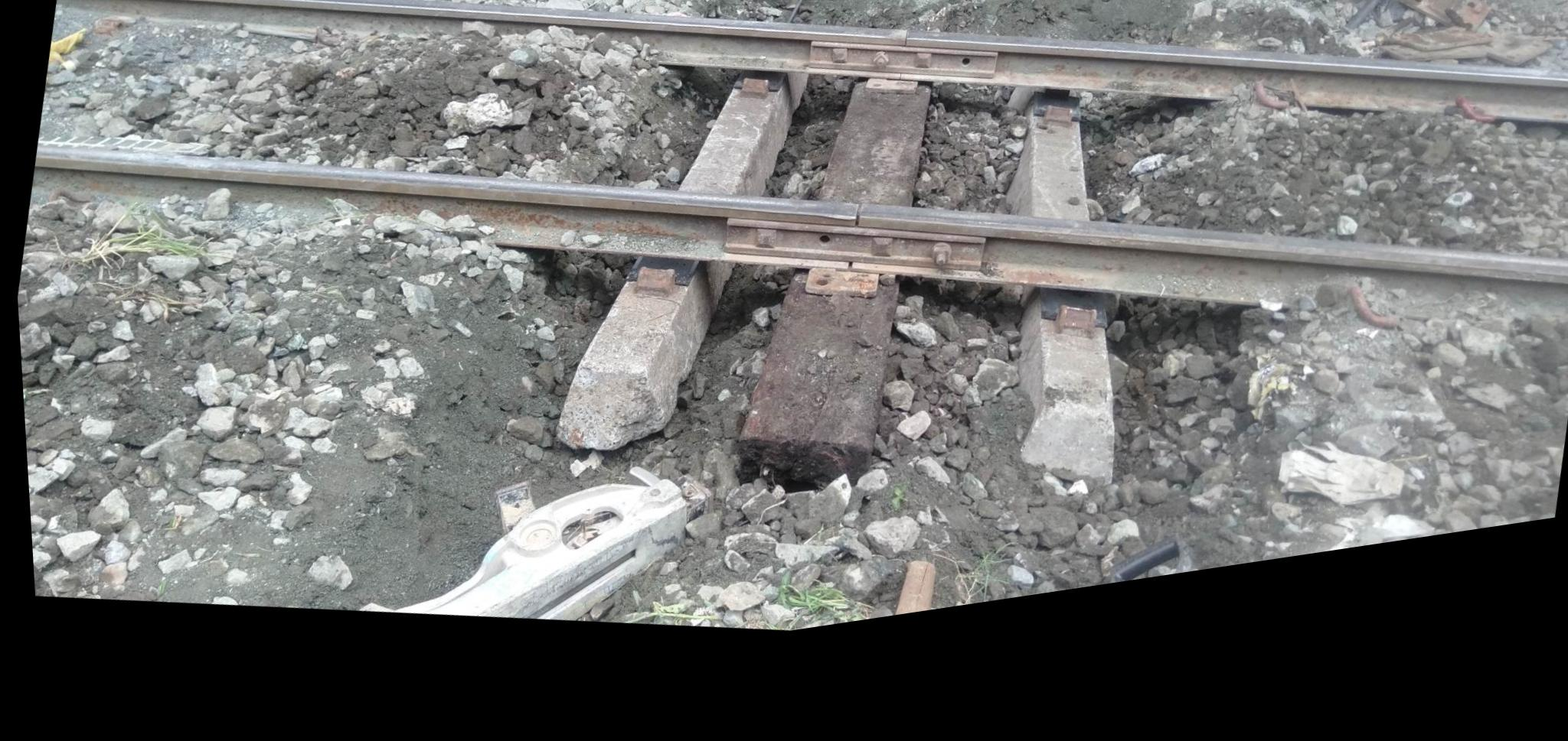person: (812, 201, 893, 278), (868, 32, 939, 100)
